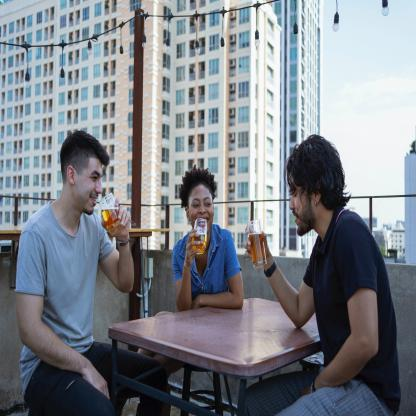Eye: (292, 191, 299, 200), (92, 174, 98, 182), (204, 201, 212, 207), (192, 203, 199, 209)
Mouth: (89, 194, 99, 205), (196, 217, 208, 226), (292, 212, 300, 224)
Nose: (94, 181, 103, 195), (288, 198, 296, 212), (199, 203, 207, 215)
